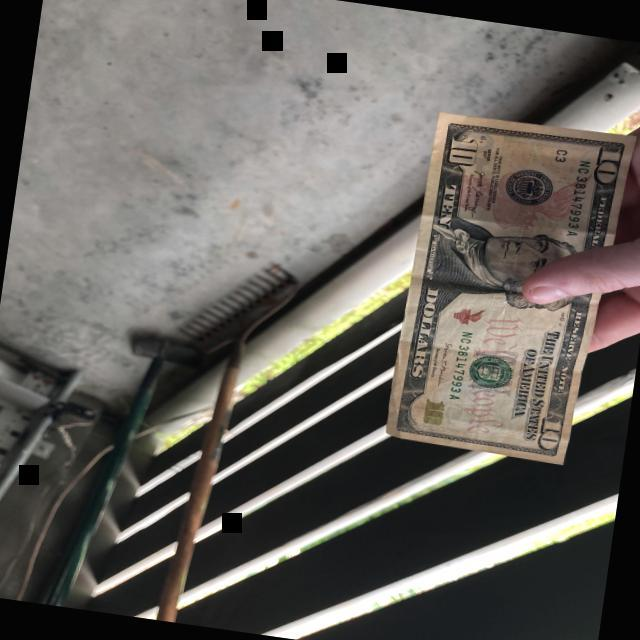ten: (384, 112, 637, 464)
